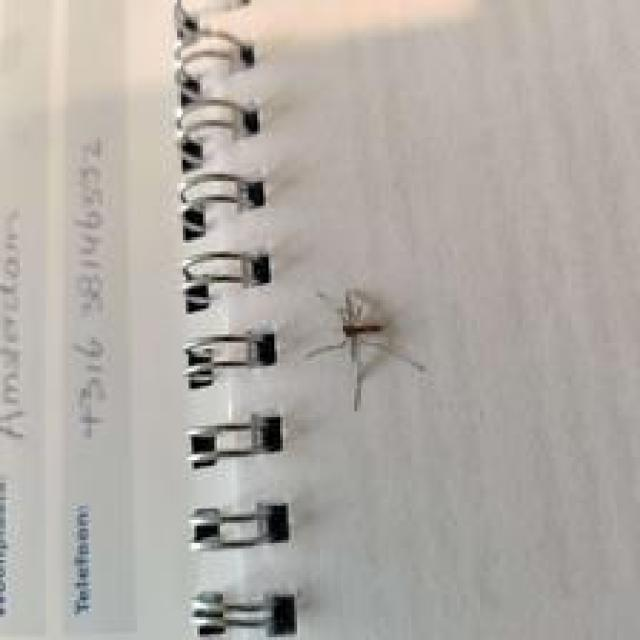Culex: (303, 286, 426, 411)
